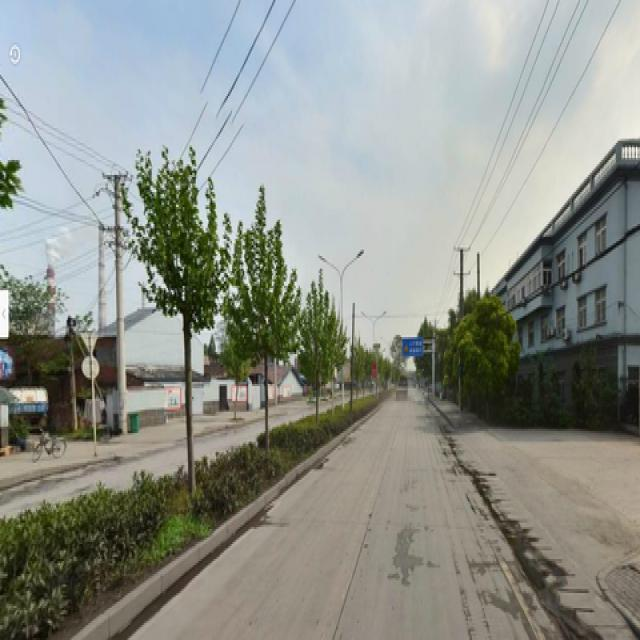meta: (119, 149, 233, 506), (238, 177, 306, 478)
